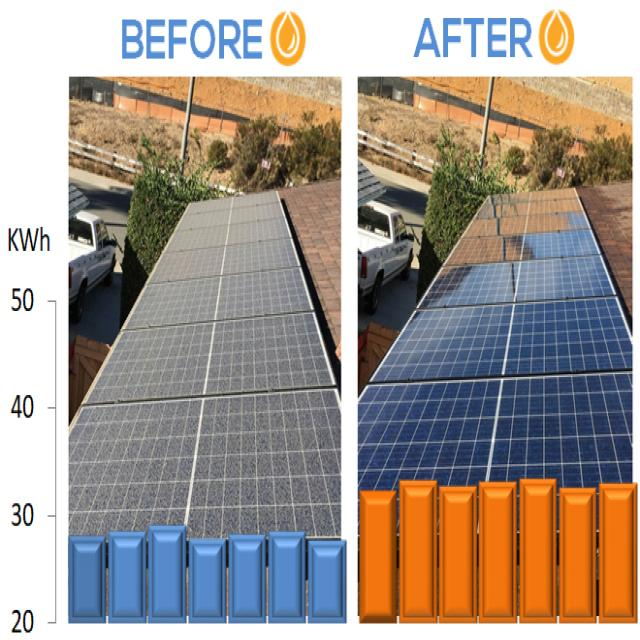clean-solar-panel: (356, 186, 637, 490)
